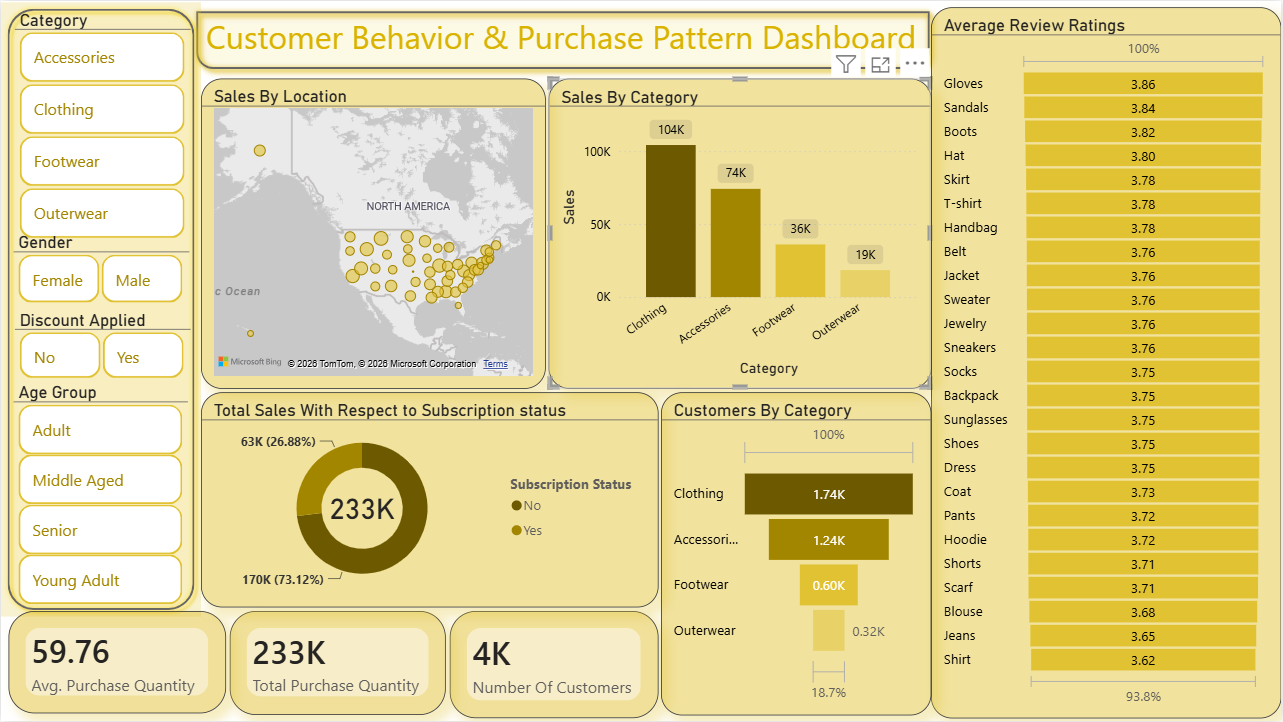

The dashboard page shown, as its layout file describes it:
{"tool":"powerbi","page":{"name":"Page 1","canvas":[1280,720],"ordinal":0},"visuals":[{"type":"shape","box":[185.7,1.4,751.4,75.7],"z":0},{"type":"textbox","box":[190.6,8.4,740,68.6],"z":1000},{"type":"shape","box":[0,1.4,200,614.3],"z":2000},{"type":"advancedSlicerVisual","title":"Category","fields":{"Values":["customer.category"]},"box":[14.3,8.6,175.7,234.3],"z":3000},{"type":"advancedSlicerVisual","title":"Gender","fields":{"Values":["customer.gender"]},"box":[12.9,231.4,175.7,74.3],"z":4000},{"type":"advancedSlicerVisual","title":"Discount Applied","fields":{"Values":["customer.discount_applied"]},"box":[14.3,308.6,175.7,72.9],"z":5000},{"type":"advancedSlicerVisual","title":"Age Group","fields":{"Values":["customer.age_group"]},"box":[12.9,381.4,174.3,228.6],"z":6000},{"type":"map","title":"Sales By Location","fields":{"Category":["customer.location"],"Size":["Sum(customer.purchase_amount)"]},"box":[200,77.5,345,310],"z":7000},{"type":"cardVisual","fields":{"Data":["customer.Number Of Customers"]},"box":[448.8,610,208.8,107.5],"z":8000},{"type":"cardVisual","fields":{"Data":["Sum(customer.purchase_amount)"]},"box":[228.8,610,216.2,103.8],"z":9000},{"type":"cardVisual","fields":{"Data":["customer.Average Purchase Amount"]},"box":[7.5,610,217.5,102.5],"z":10000},{"type":"clusteredColumnChart","title":"Sales By Category","fields":{"Y":["Sum(customer.purchase_amount)"],"Category":["customer.category"]},"box":[547.1,77.1,382.9,310],"z":11000},{"type":"donutChart","title":"Total Sales With Respect to Subscription status","fields":{"Category":["customer.subscription_status"],"Y":["Sum(customer.purchase_amount)"]},"box":[200,391.2,457.5,215],"z":12000},{"type":"funnel","title":"Average Review Ratings","fields":{"Category":["customer.item_purchased"],"Y":["customer.Average Review Rating"]},"box":[930,5.7,350,711.4],"z":13000},{"type":"funnel","title":"Customers By Category","fields":{"Y":["Count(customer.customer_id)"],"Category":["customer.category"]},"box":[660,391.4,270,322.9],"z":14000}]}

Visuals, with their boxes in screenshot pixels (x1, y1, x2, y2), scaled from the page's 1280x720 canvas onto the 1283x722 screenshot:
shape: <bbox>186, 1, 939, 77</bbox>
textbox: <bbox>191, 8, 933, 77</bbox>
shape: <bbox>0, 1, 200, 617</bbox>
"Category" advancedSlicerVisual: <bbox>14, 9, 190, 244</bbox>
"Gender" advancedSlicerVisual: <bbox>13, 232, 189, 307</bbox>
"Discount Applied" advancedSlicerVisual: <bbox>14, 309, 190, 383</bbox>
"Age Group" advancedSlicerVisual: <bbox>13, 382, 188, 612</bbox>
"Sales By Location" map: <bbox>200, 78, 546, 389</bbox>
cardVisual - customer.Number Of Customers: <bbox>450, 612, 659, 719</bbox>
cardVisual - Sum(customer.purchase_amount): <bbox>229, 612, 446, 716</bbox>
cardVisual - customer.Average Purchase Amount: <bbox>8, 612, 226, 714</bbox>
"Sales By Category" clusteredColumnChart: <bbox>548, 77, 932, 388</bbox>
"Total Sales With Respect to Subscription status" donutChart: <bbox>200, 392, 659, 608</bbox>
"Average Review Ratings" funnel: <bbox>932, 6, 1282, 719</bbox>
"Customers By Category" funnel: <bbox>662, 392, 932, 716</bbox>
